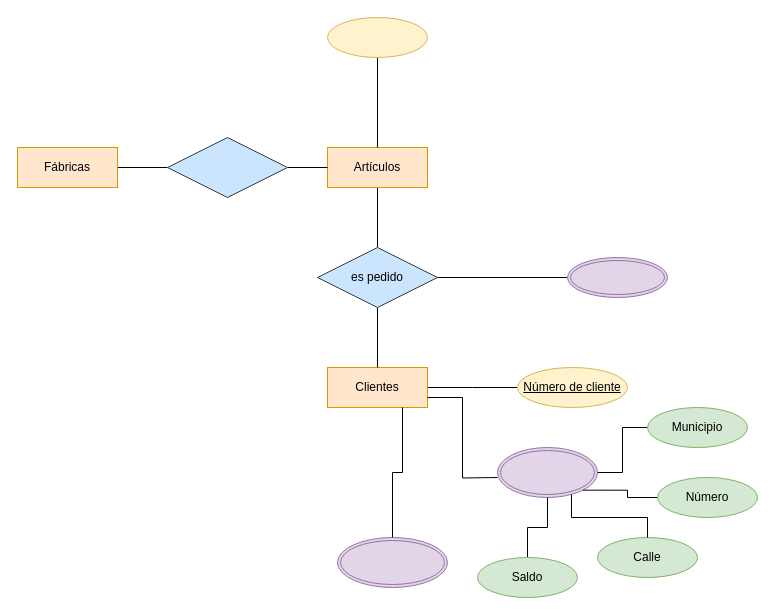
This 775x615 diagram has some shape labels left out. Here are the shapes that lost their labels. From the top down, the centre of each, then its label:
At (377,37): "Número de articulo".
At (227,167): "distribuyen".
At (617,277): "Cabecera".
At (547,472): "Dirección de envio".
At (392,562): "Límite de crédito".
